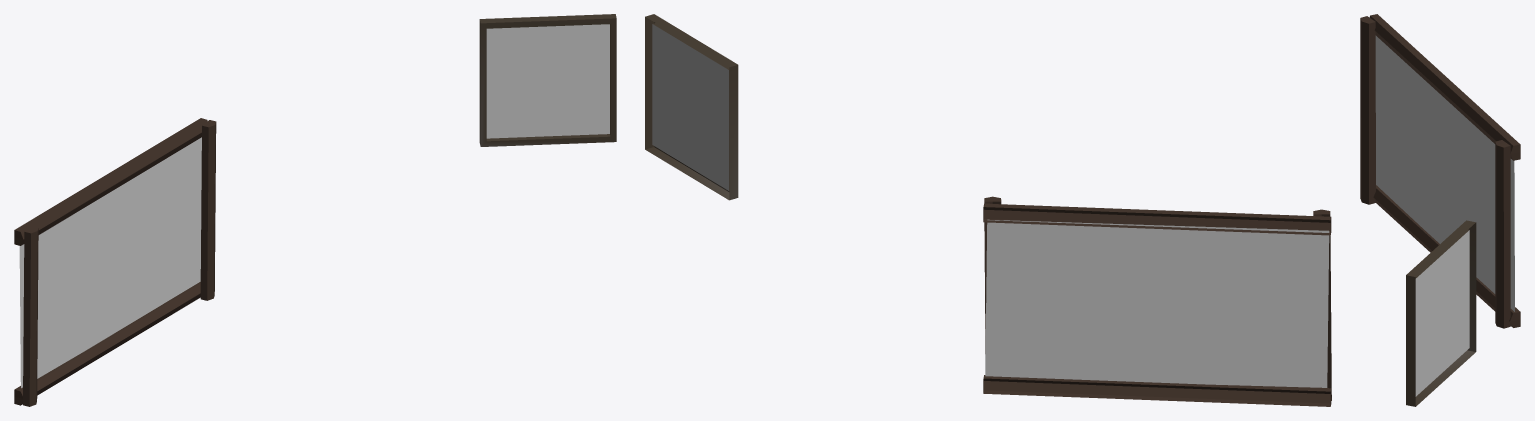
The model's file is QuadrosSalaResistencia.fbx.
3 renders of one model, left to right at view 1: azimuth 30°, elevation 25°; view 2: azimuth 150°, elevation 25°; view 3: azimuth 270°, elevation 25°, orthographic. The views are drawn at different scales.
Visible parts, largest first — view 1: Pintura, Quadros, Pintura2; view 2: Pintura, Quadros, Pintura2; view 3: Pintura, Quadros, Pintura2.
Boxes of the visible parts, x1,y1,x2,y2 form: Pintura: (19,137,201,388); Quadros: (14,14,616,406); Pintura2: (486,24,609,138); Pintura: (985,219,1329,387); Quadros: (645,14,1331,406); Pintura2: (652,24,728,190); Pintura: (1375,35,1514,311); Quadros: (1360,14,1520,406); Pintura2: (1415,230,1469,396).
Size of the model in its own units: 799 by 277 by 170.
